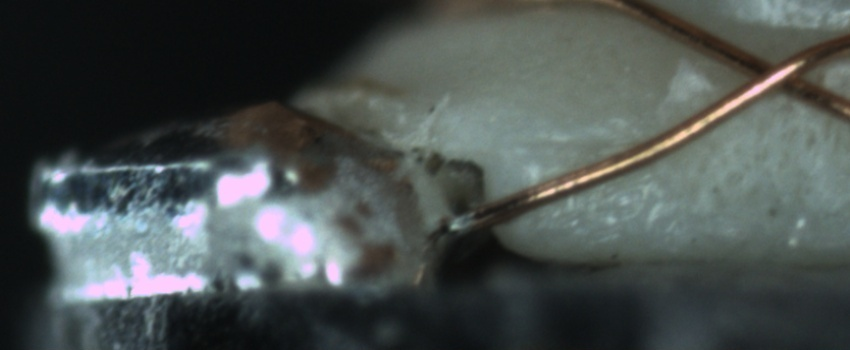CL: (719, 38, 825, 107)
DL: (511, 113, 638, 174)
